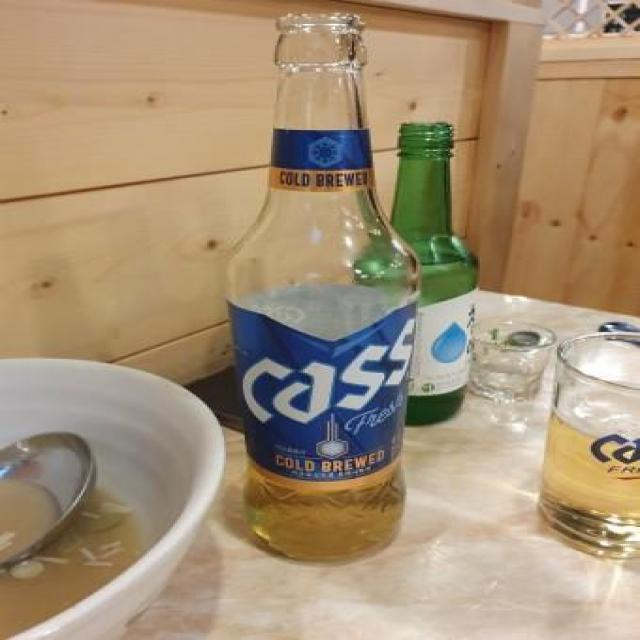beer-bottle: (238, 13, 415, 560)
soju-bottle: (350, 122, 476, 424)
